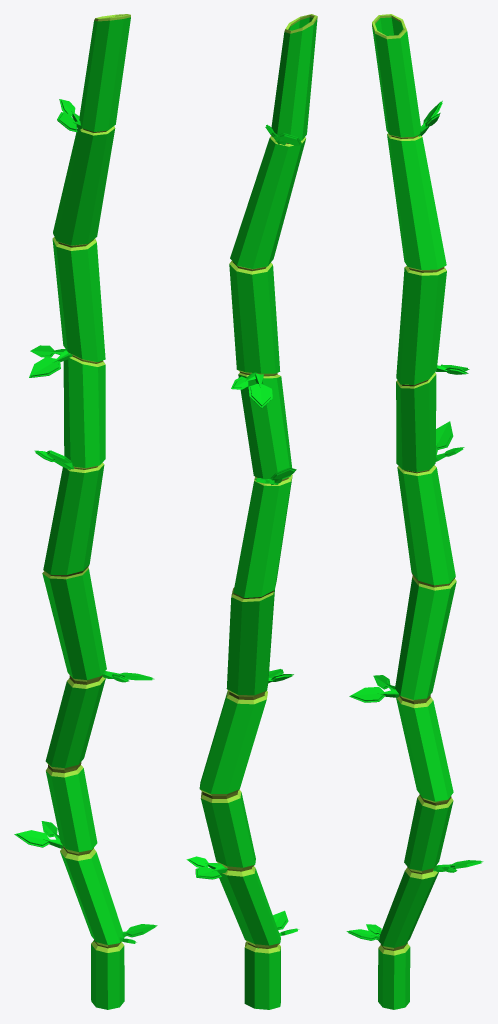
The model's file is Bamboo Large.fbx.
The picture shows the model from 3 angles, left to right: view 1: azimuth 90°, elevation 25°; view 2: azimuth 150°, elevation 25°; view 3: azimuth 270°, elevation 25°; orthographic projection. The views are drawn at different scales.
Visible parts, largest first — view 1: BambooL; view 2: BambooL; view 3: BambooL.
Part boxes in pixels (bbox=[...]): BambooL: bbox=[14, 14, 157, 1009]; BambooL: bbox=[186, 14, 317, 1009]; BambooL: bbox=[346, 14, 483, 1009].
Bounding box in the file's own units: 42.73 × 388 × 50.06.
